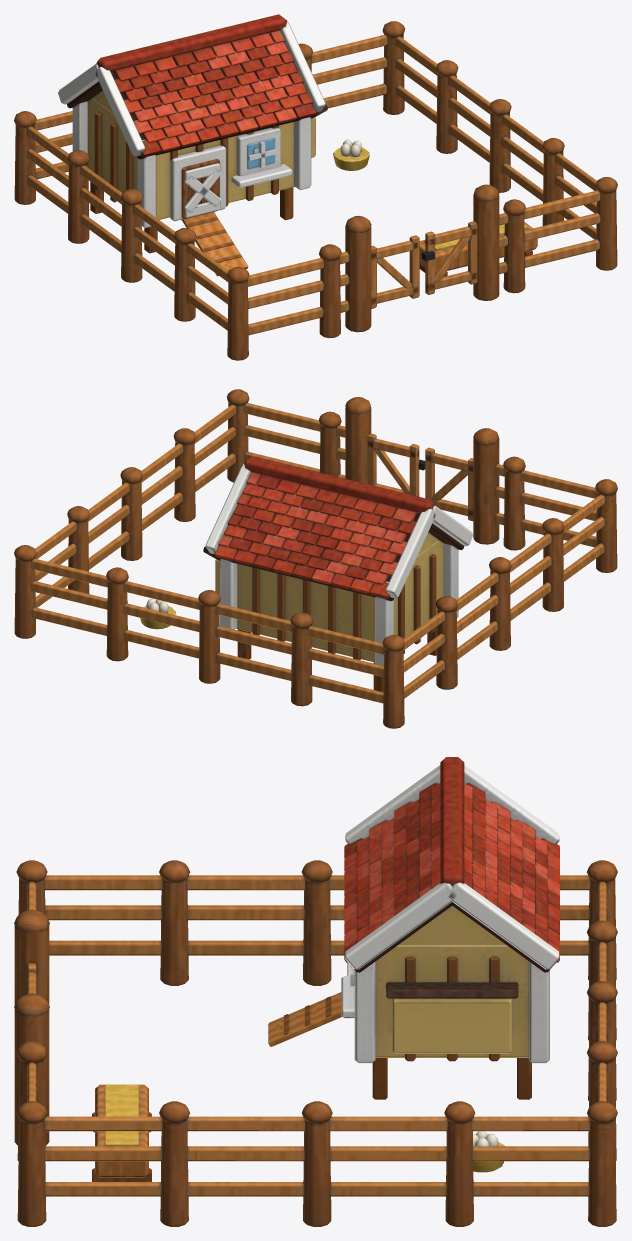
The model's file is coop.glb.
3 views of the same model, one above another, from view 1: azimuth 30°, elevation 25°; view 2: azimuth 150°, elevation 25°; view 3: azimuth 270°, elevation 25° (orthographic). The views are drawn at different scales.
Parts seen in each view (by area): view 1: coop, gate1, gate0; view 2: coop, gate1, gate0; view 3: coop.
Part boxes in pixels (x1=…): coop: x1=14, y1=14, x2=617, y2=360; gate1: x1=421, y1=221, x2=477, y2=294; gate0: x1=371, y1=235, x2=419, y2=308; coop: x1=14, y1=389, x2=617, y2=728; gate1: x1=367, y1=433, x2=425, y2=496; gate0: x1=425, y1=447, x2=473, y2=521; coop: x1=14, y1=757, x2=617, y2=1226.
Bounding box in the file's own units: 2 × 0.8813 × 2.01.
1 material, 1 textured.
